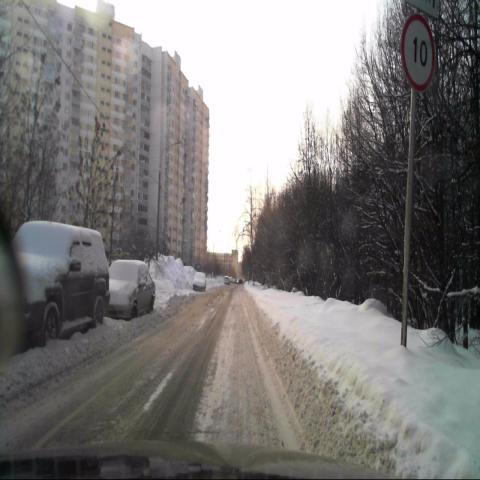3_24: (401, 13, 436, 96)
